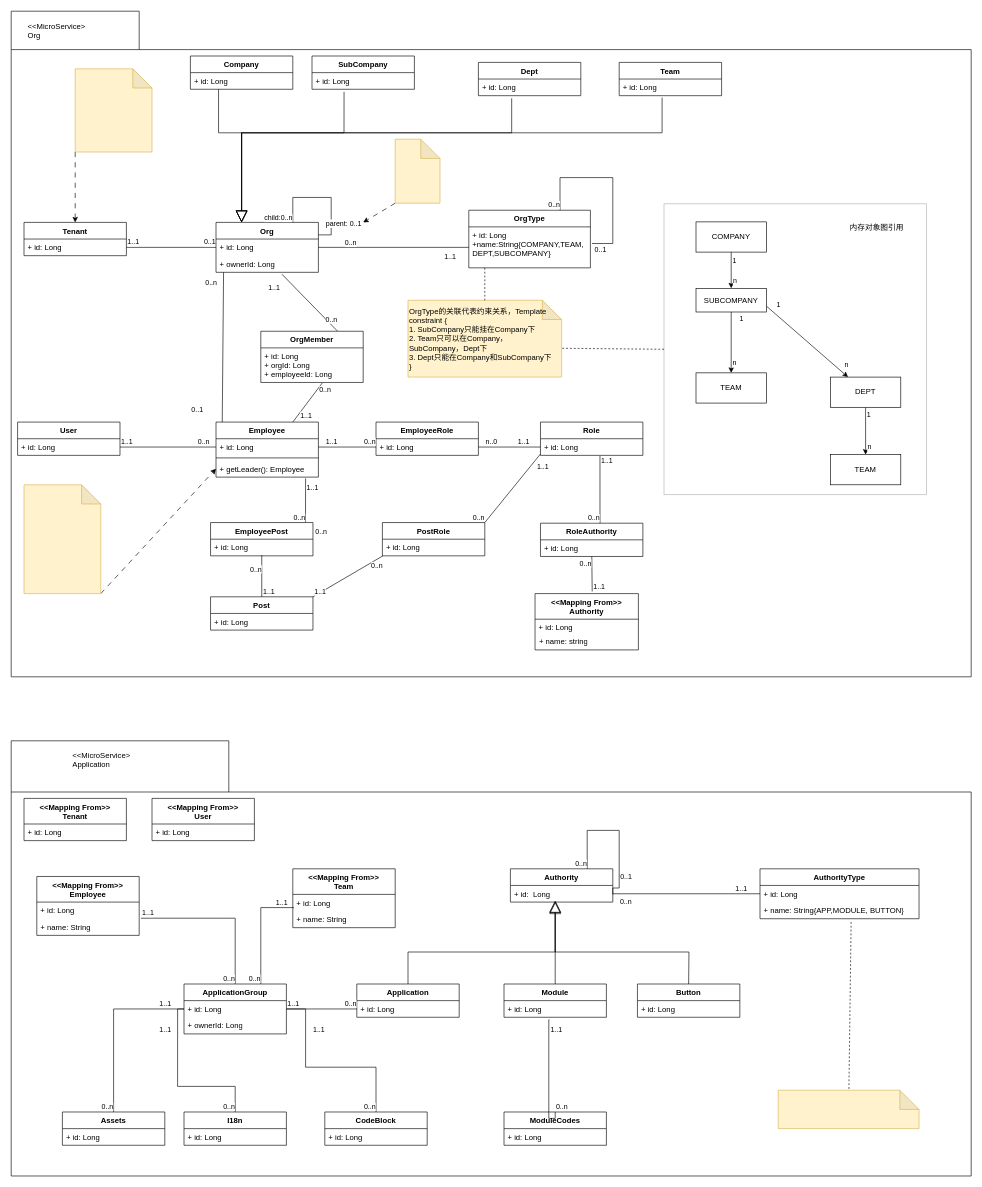
Some shapes in this 982 by 1187 pixel diagram are drawn without their labels. The shapes that lost their labels are listed below. From the top down, each one's centre as x and y in pixels, then its label:
At [113,110]: "每个实体都会和Tenant关联，为了简洁，不一一画出关联".
At [417,171]: "parent 为0时，为总公司".
At [62,539]: "getLeader() ,如果当前员工不是部门负责人，则取所在部门负责人，如果是部门负责人，则取上级部门负责人".
At [848,1109]: "{1. Module只能挂在Application下面 2. Button只能挂在APP和Module下}".
